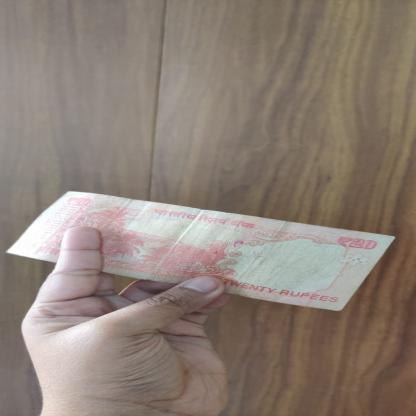Old20Back: (5, 192, 395, 312)
